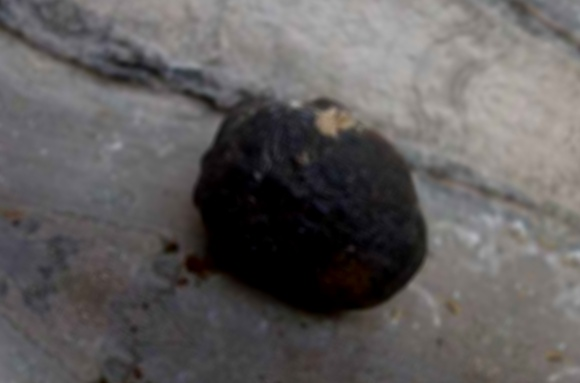halobolite: (161, 55, 478, 349)
